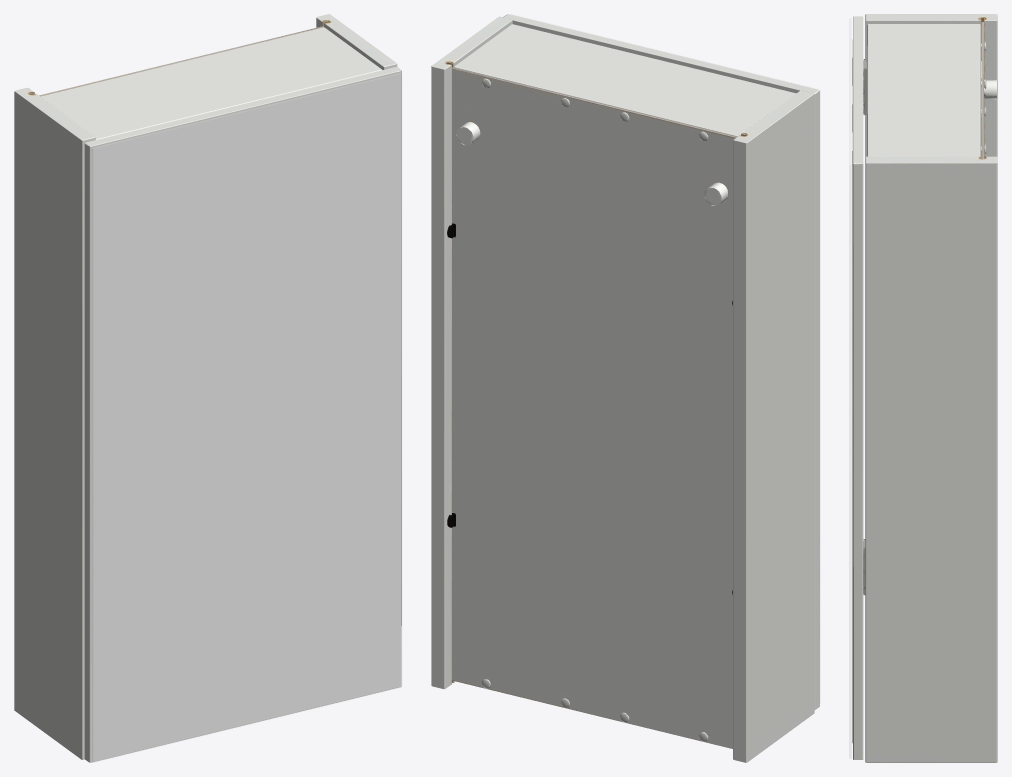
The model's file is enhet_szafka_z_lustrem_z_drzwiczkami_30623040.glb.
3 renders of one model, left to right at view 1: azimuth 30°, elevation 25°; view 2: azimuth 150°, elevation 25°; view 3: azimuth 270°, elevation 25°, orthographic. The views are drawn at different scales.
Parts seen in each view (by area): view 1: enhet_szafka_z_lustrem_z_drzwiczkami_30623040; view 2: enhet_szafka_z_lustrem_z_drzwiczkami_30623040; view 3: enhet_szafka_z_lustrem_z_drzwiczkami_30623040.
Boxes of the visible parts, x1,y1,x2,y2 form: enhet_szafka_z_lustrem_z_drzwiczkami_30623040: (14, 14, 401, 762); enhet_szafka_z_lustrem_z_drzwiczkami_30623040: (431, 14, 819, 762); enhet_szafka_z_lustrem_z_drzwiczkami_30623040: (850, 14, 997, 762).
Bounding box in the file's own units: 0.4 × 0.75 × 0.168.
Materials: 2 (2 with a texture image).
